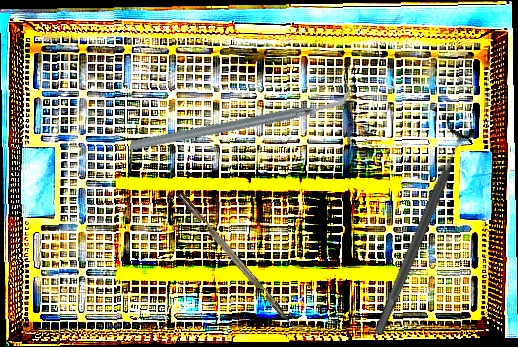Chopper: (128, 44, 353, 195), (177, 186, 307, 336)
Fixation Ring: (361, 117, 480, 341)
